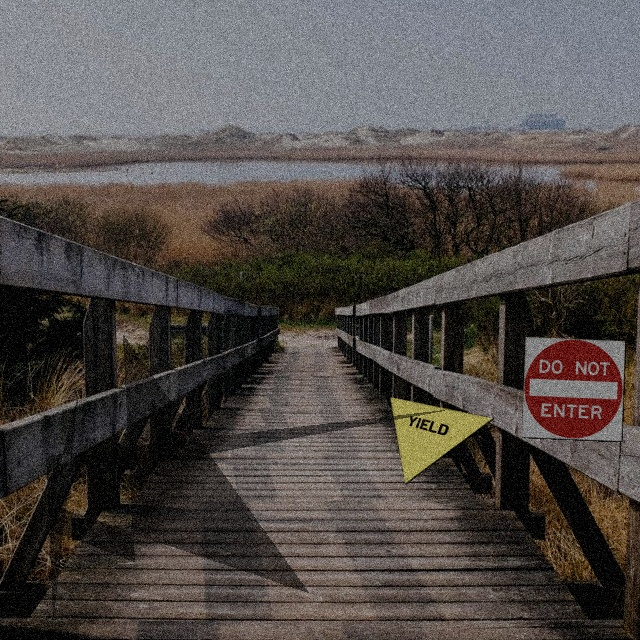DO_NOT_ENTER: (521, 336, 626, 442)
YIELD: (389, 396, 495, 485)
